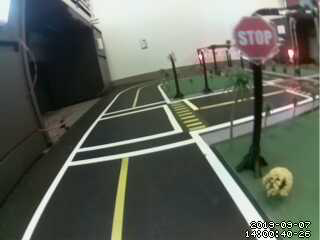Stop_Sign: (231, 15, 288, 62)
